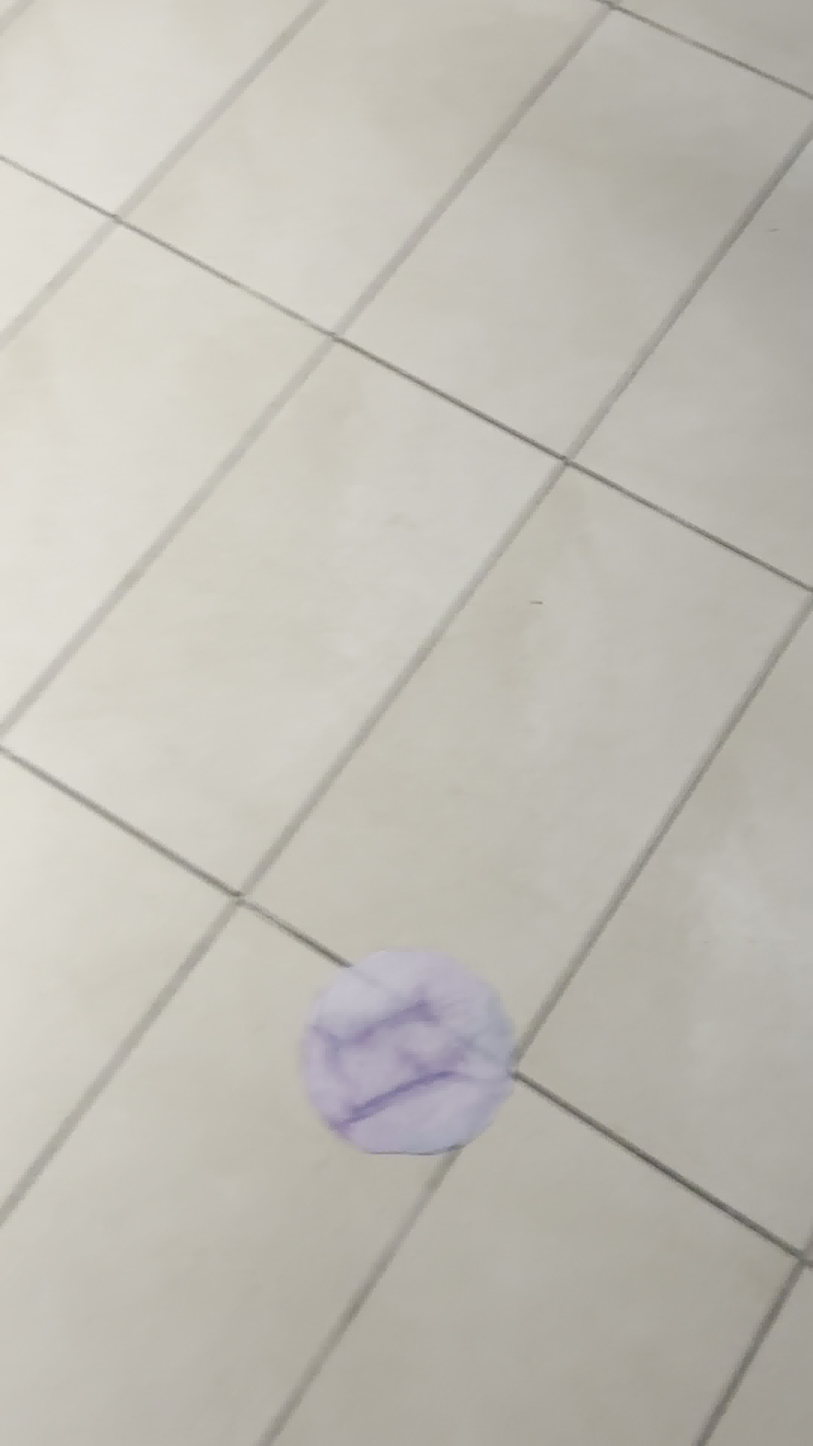Target: (298, 960, 513, 1156)
